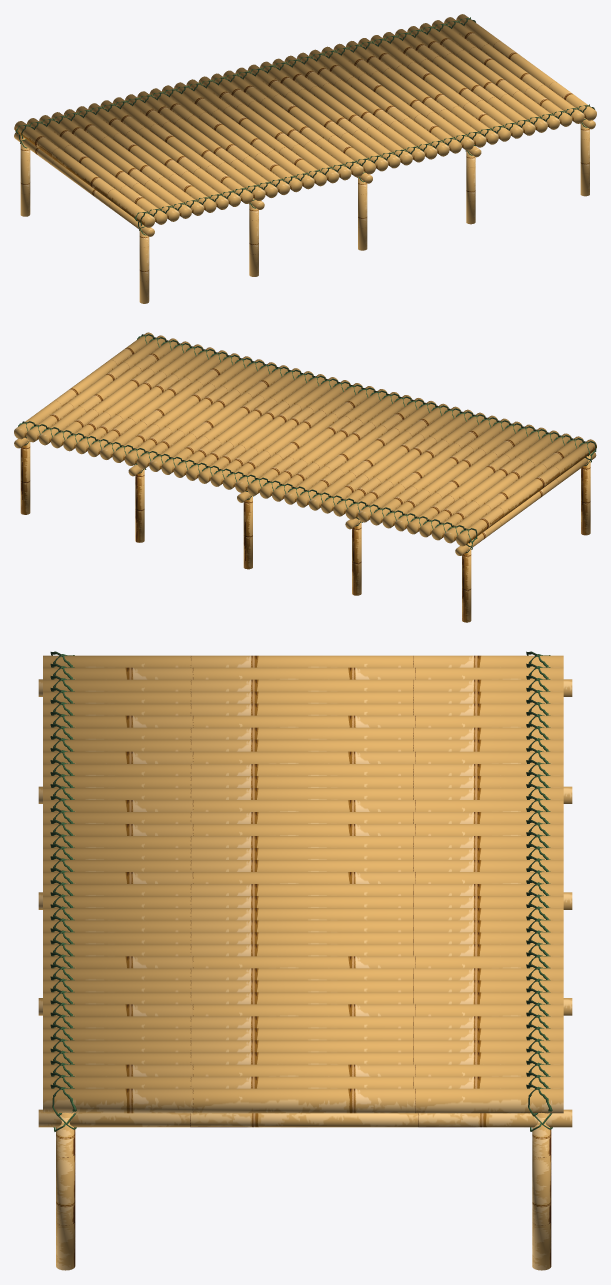
Rendered from pier.fbx.
3 renders of one model, top to bottom at view 1: azimuth 30°, elevation 25°; view 2: azimuth 150°, elevation 25°; view 3: azimuth 270°, elevation 25°, orthographic. The views are drawn at different scales.
Visible parts, largest first — view 1: pier; view 2: pier; view 3: pier.
Boxes of the visible parts, x1=… form: pier: x1=14, y1=14, x2=596, y2=303; pier: x1=14, y1=332, x2=596, y2=622; pier: x1=38, y1=651, x2=572, y2=1270.
Size of the model in its own units: 2875 by 550 by 1457.
